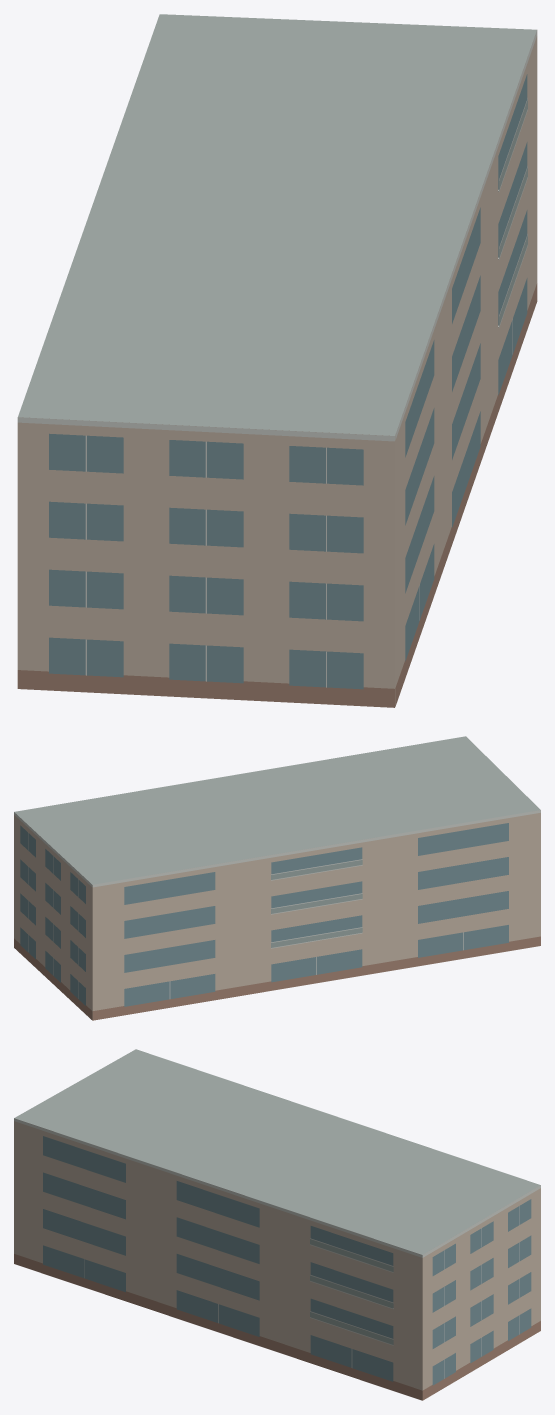
File: survey-upis-33041920.glb
3 views of the same model, one above another, from view 1: azimuth 30°, elevation 25°; view 2: azimuth 150°, elevation 25°; view 3: azimuth 270°, elevation 25° (orthographic). The views are drawn at different scales.
Parts seen in each view (by area): view 1: survey-upis-33041920.tmp; view 2: survey-upis-33041920.tmp; view 3: survey-upis-33041920.tmp.
Part boxes in pixels (<box>): survey-upis-33041920.tmp: <box>17,14,537,707</box>; survey-upis-33041920.tmp: <box>14,736,540,1020</box>; survey-upis-33041920.tmp: <box>14,1049,540,1400</box>.
Size of the model in its own units: 36.96 by 12.2 by 39.98.
